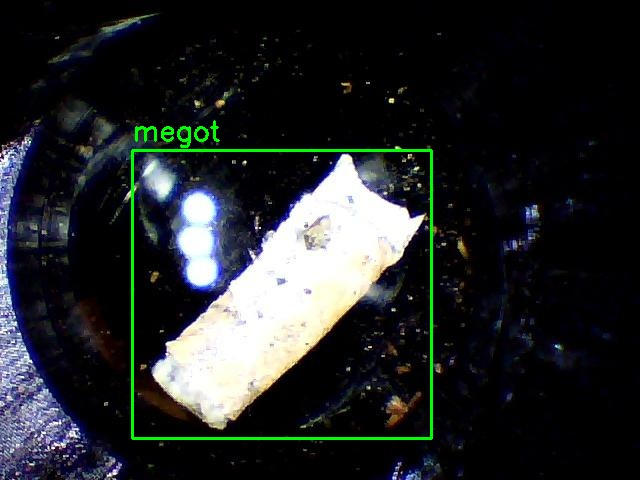megot: (132, 150, 431, 438)
